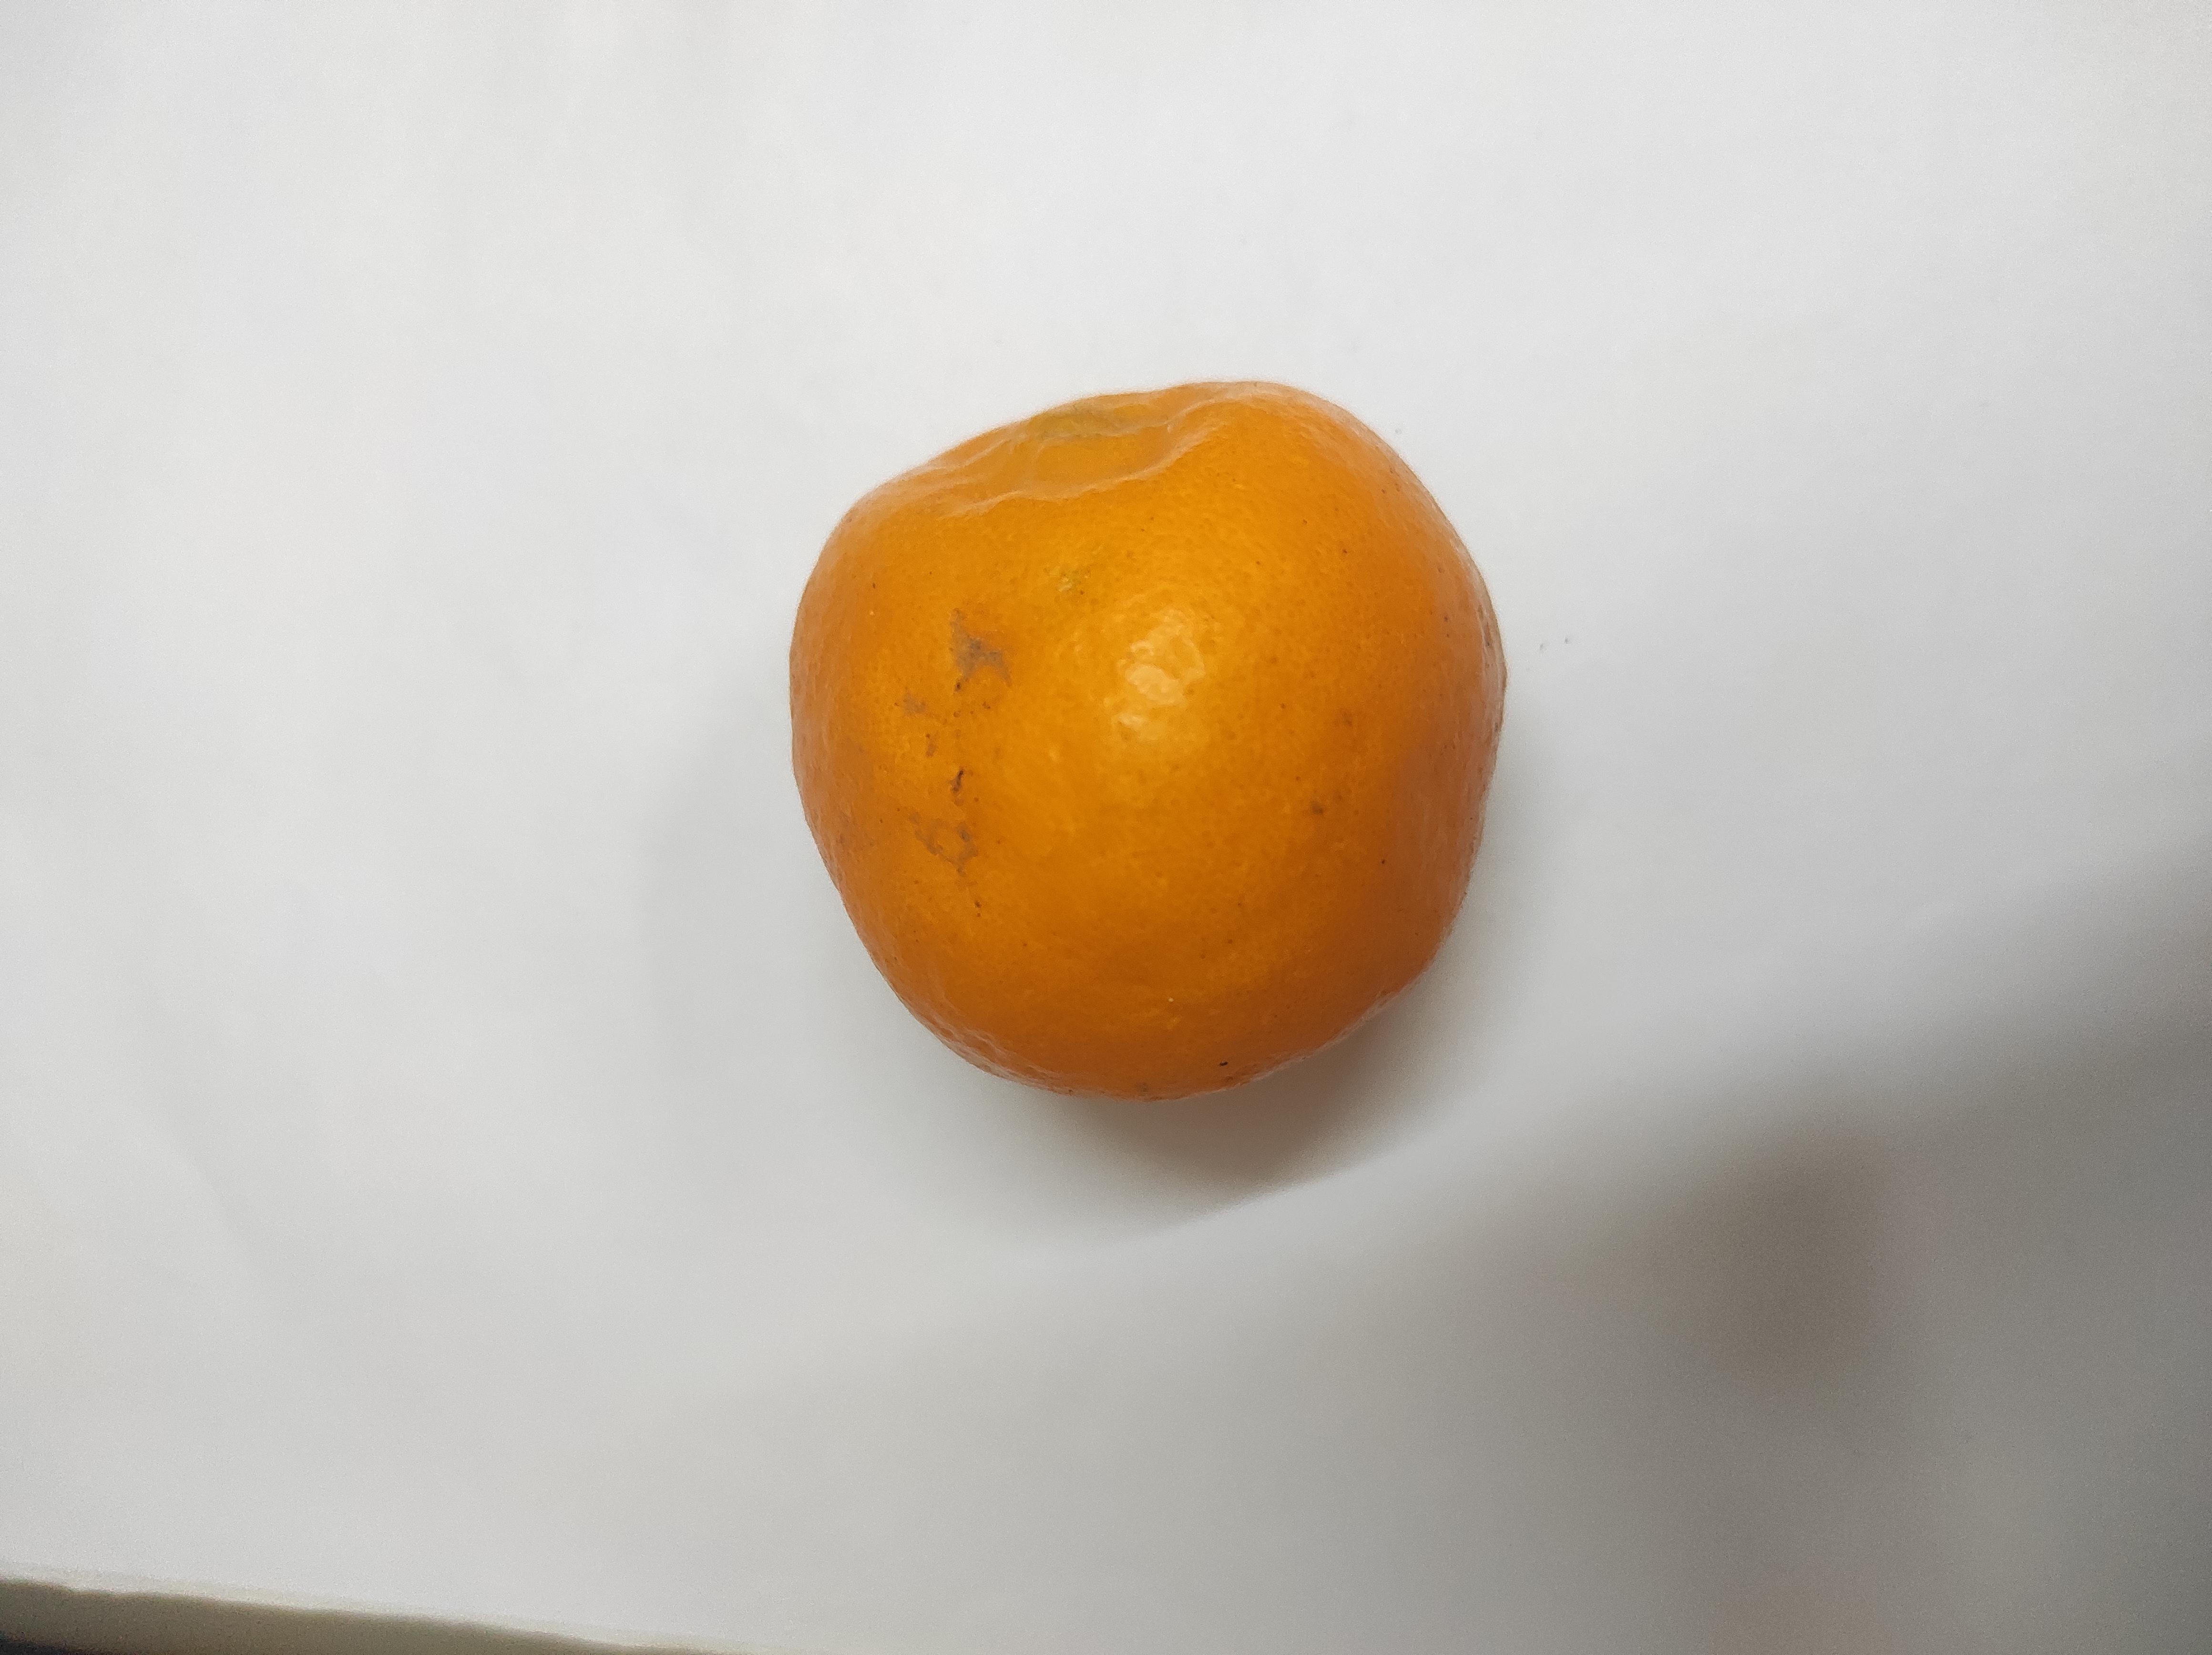Ripe: (777, 367, 1497, 1092)
